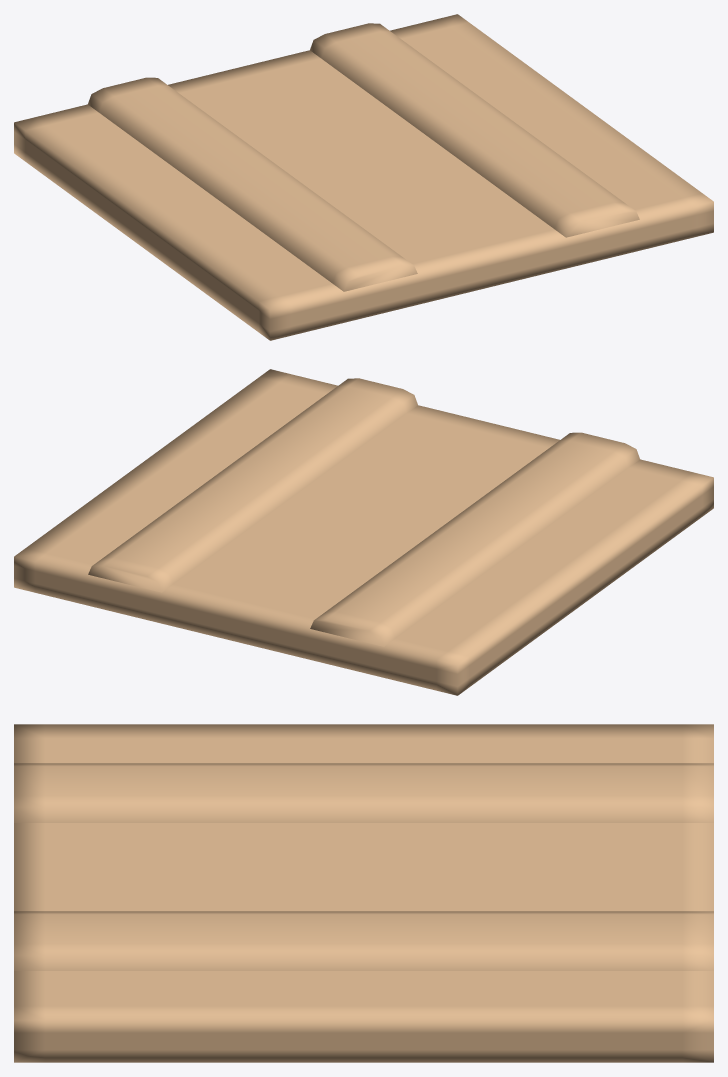
File: CrateSmallATop.fbx
The picture shows the model from 3 angles, top to bottom: view 1: azimuth 30°, elevation 25°; view 2: azimuth 150°, elevation 25°; view 3: azimuth 270°, elevation 25°; orthographic projection. The views are drawn at different scales.
Parts seen in each view (by area): view 1: CrateSmallATop; view 2: CrateSmallATop; view 3: CrateSmallATop.
Boxes of the visible parts, x1=… form: CrateSmallATop: x1=14, y1=14, x2=713, y2=340; CrateSmallATop: x1=14, y1=369, x2=713, y2=695; CrateSmallATop: x1=14, y1=724, x2=713, y2=1062.
Size of the model in its own units: 75 by 7.01 by 75.
